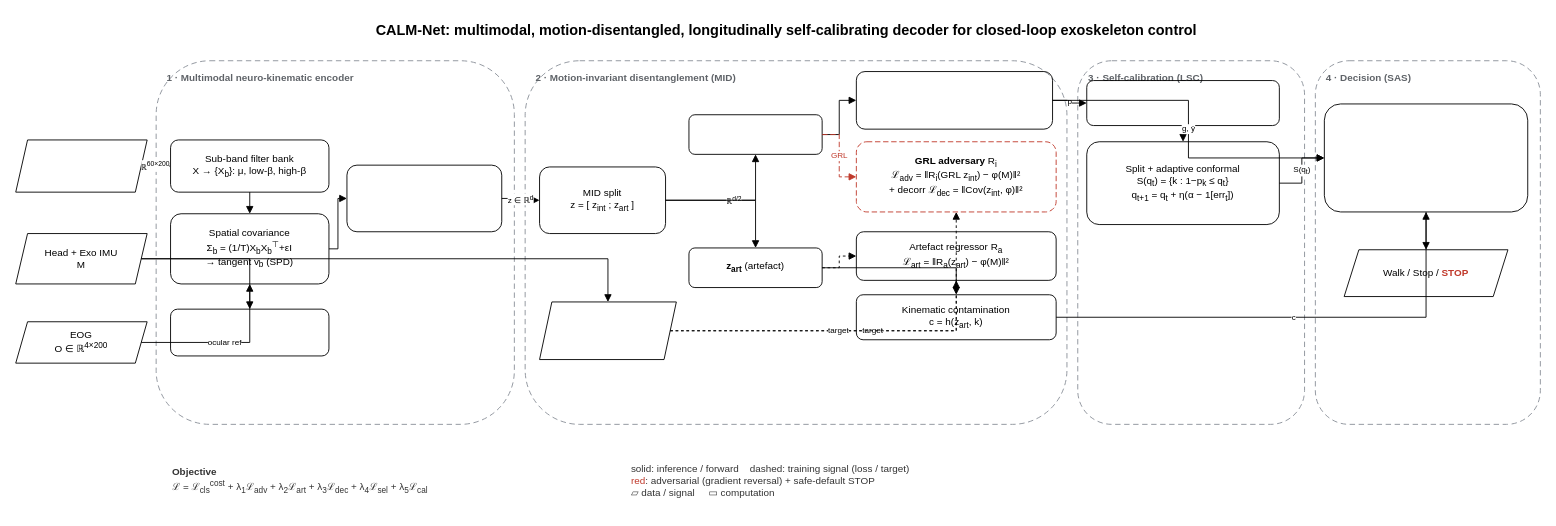
This 1556x526 diagram has some shape labels left out. Here are the shapes that lost their labels. From the top down, the centre of each, then its label:
At pixel 954 100: "Selective classifier p = softmax(W z int / T) gate g(z int )".
At pixel 1182 103: "Temperature scaling T ∈ [0.5, 5]".
At pixel 755 134: "z int (intent)".
At pixel 81 165: "EEG X ∈ ℝ 60×200 2 s @ 100 Hz".
At pixel 1425 157: "SAS commit if g(z int )≥θ ∧ |S(q t )|=1 ∧ c<c th → ŷ = argmax k p k else → STOP".
At pixel 424 198: "XFCA μ–β coupling attention → z".
At pixel 249 332: "Kinematic encoder M → k".
At pixel 607 330: "φ(M) ∈ ℝ 12 head+exo accel/gyro mean · std · max".
